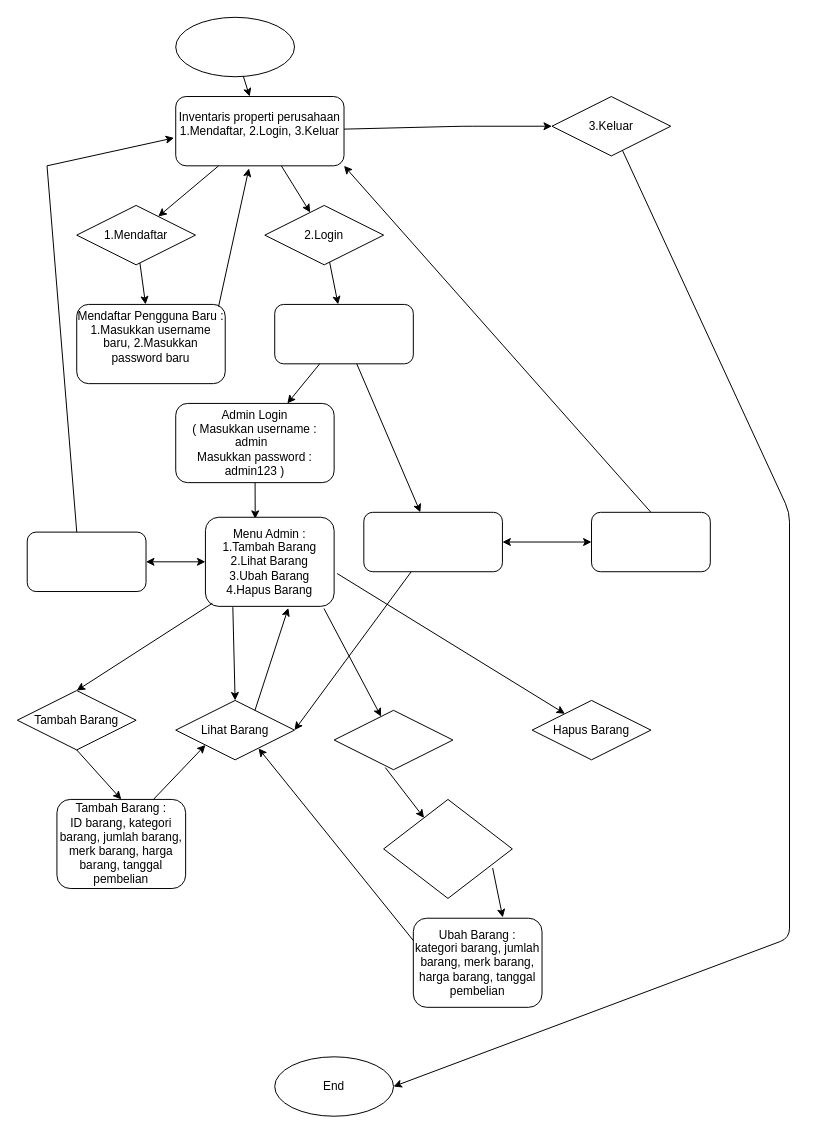
This 815x1134 diagram has some shape labels left out. Each missing label, with the centre of its shape:
2.Logout: [650,541]
5.Logout: [86,561]
Masukkan ID yang sudah ada: [447,848]
Start: [235,46]
Ubah Barang: [393,739]
User Login: [432,541]
Username & Password: [343,333]
